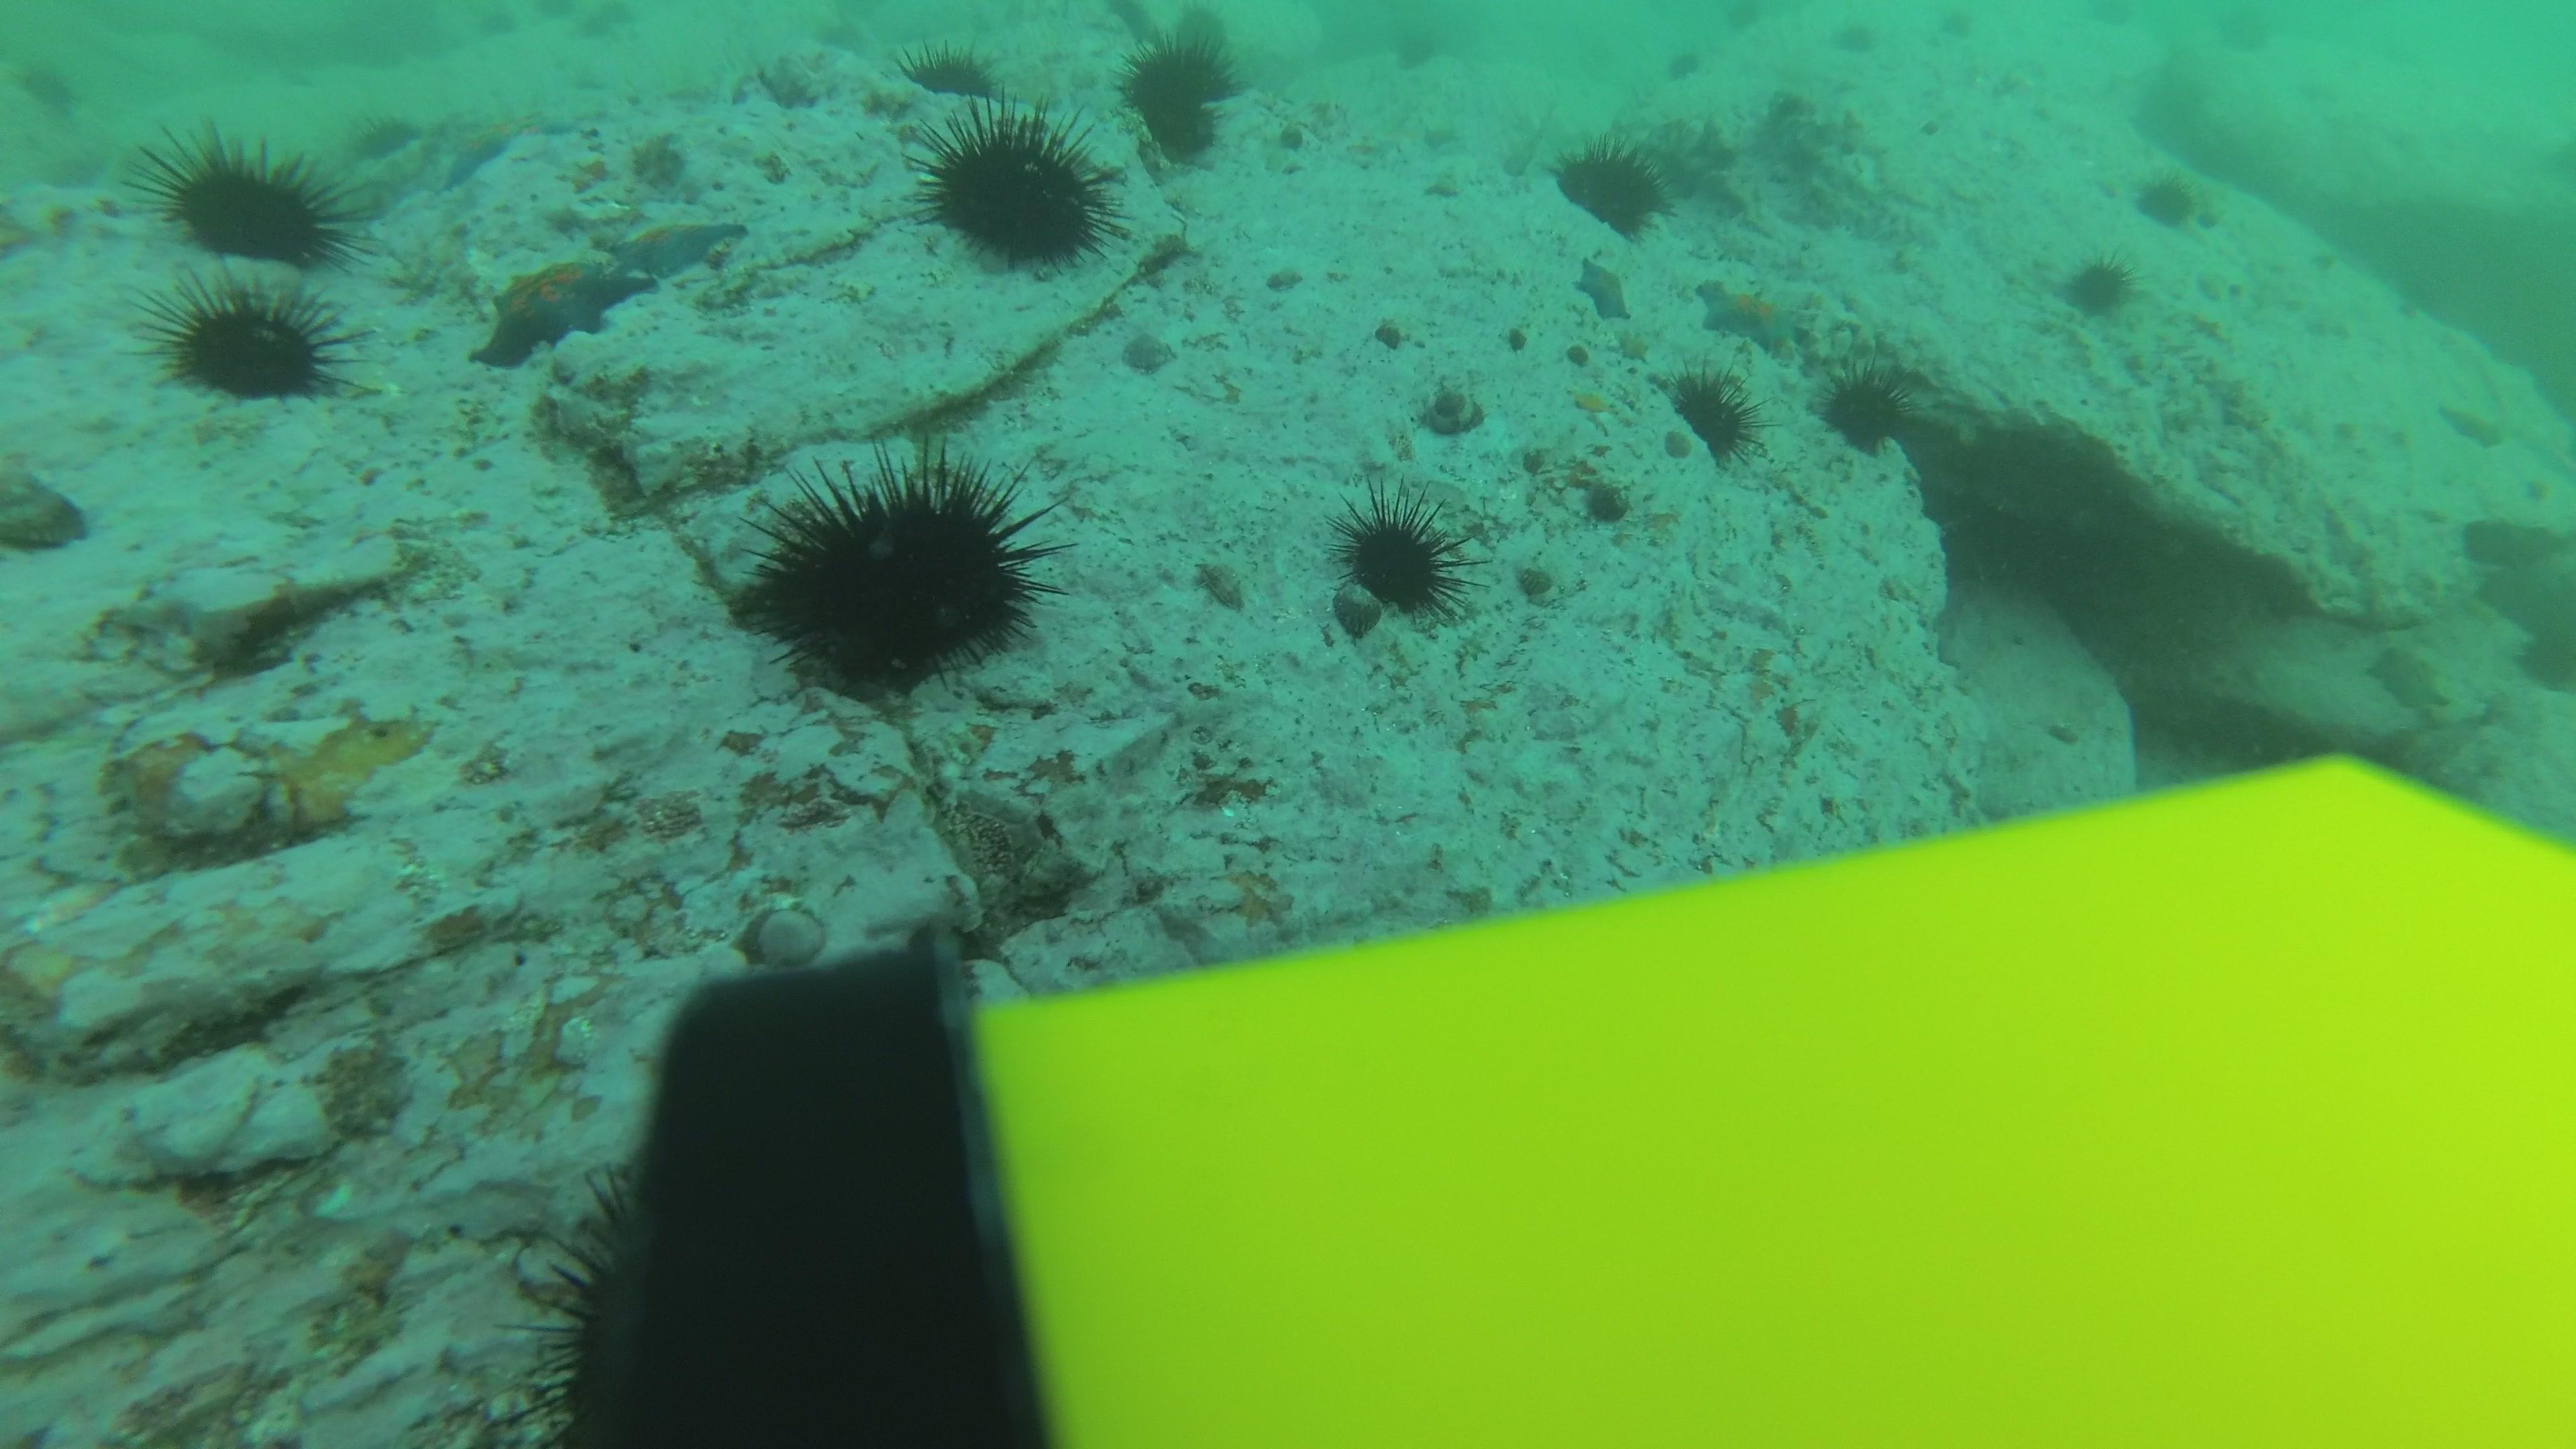urchin: (736, 437, 1037, 690), (906, 110, 1113, 281), (127, 274, 361, 409), (152, 119, 357, 253), (1341, 483, 1484, 619), (1120, 25, 1244, 157), (1555, 140, 1681, 234), (1675, 359, 1769, 472), (1813, 357, 1904, 448), (901, 42, 1014, 92), (2132, 170, 2206, 219), (2079, 253, 2135, 313)
